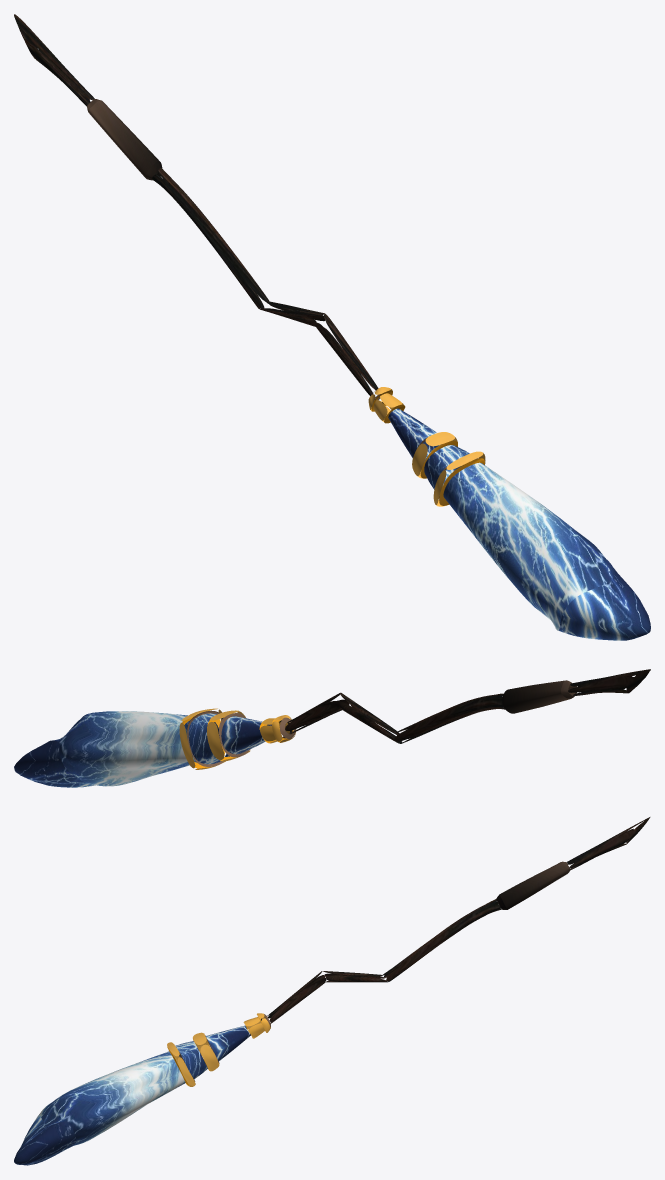
File: ebonyLightning.glb
The picture shows the model from 3 angles, top to bottom: view 1: azimuth 30°, elevation 25°; view 2: azimuth 210°, elevation 25°; view 3: azimuth 270°, elevation 25°; orthographic projection. The views are drawn at different scales.
Parts seen in each view (by area): view 1: MainStick; view 2: MainStick; view 3: MainStick.
Part boxes in pixels (x1=…): MainStick: x1=14, y1=14, x2=650, y2=640; MainStick: x1=14, y1=669, x2=650, y2=787; MainStick: x1=14, y1=817, x2=650, y2=1165.
Bounding box in the file's own units: 4.77 × 7.8 × 16.2.
1 material, 1 textured.
